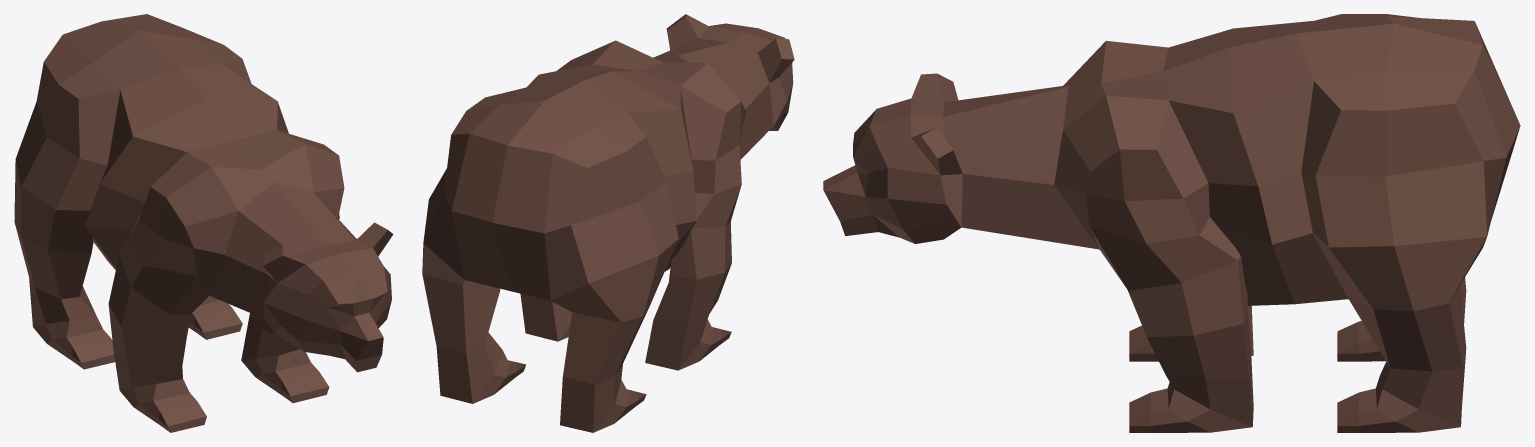
File: animal_012.glb
3 renders of one model, left to right at view 1: azimuth 30°, elevation 25°; view 2: azimuth 150°, elevation 25°; view 3: azimuth 270°, elevation 25°, orthographic. The views are drawn at different scales.
Parts seen in each view (by area): view 1: animal_012; view 2: animal_012; view 3: animal_012.
Part boxes in pixels (x1,y1,x2,y2): animal_012: (14, 14, 393, 432); animal_012: (422, 14, 794, 432); animal_012: (823, 14, 1520, 432).
Size of the model in its own units: 2.3 by 2.84 by 4.94.
Materials: 1 (1 with a texture image).
